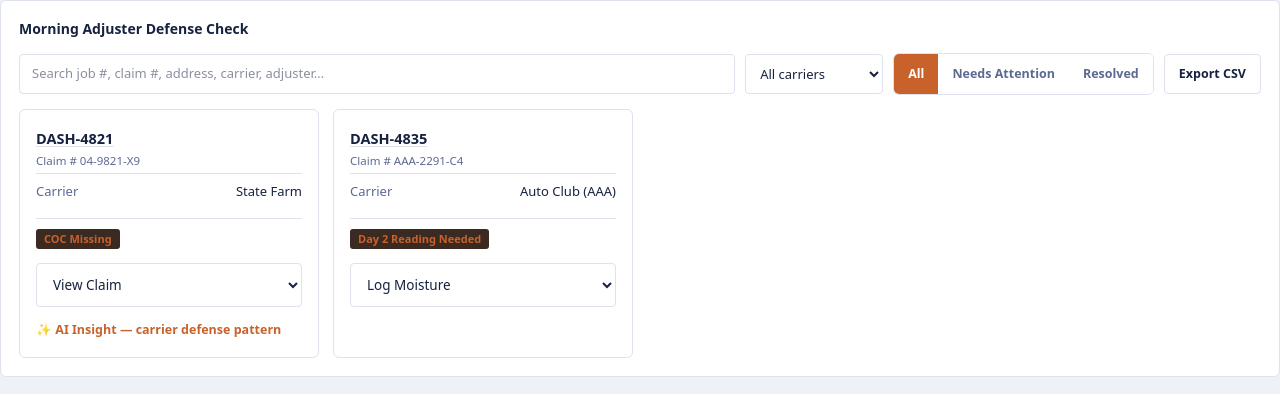
Test case: AdjusterDefenseView › resolving a chip shows an Undo link, and Undo reverts the chip and count
This screenshot has width=1280, height=394.
Select "✓ Mark Resolved" in the dropdown below "COC Missing" at (169, 285), box [36,263,302,307]
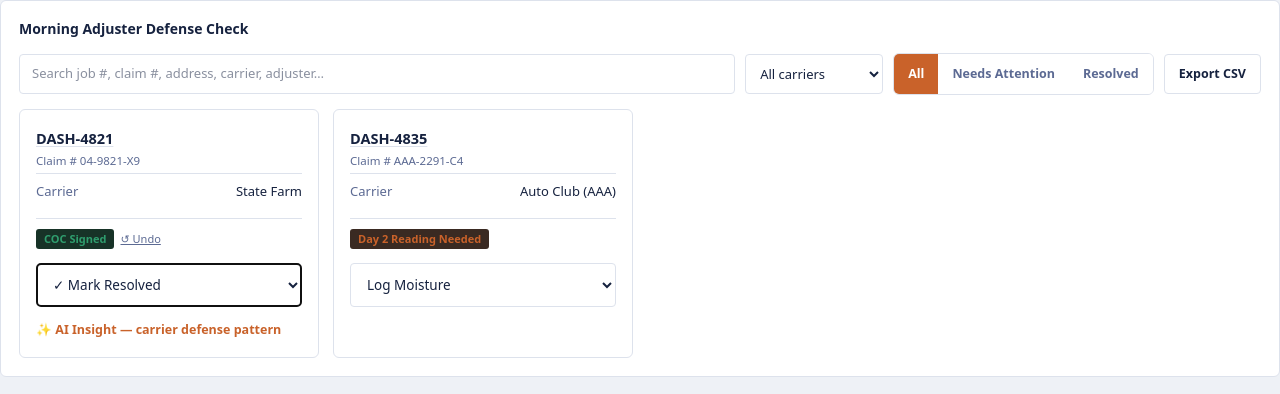
expect the text "COC Signed" is shown: met, box [36,229,114,249]
Click the button "↺ Undo" at (141, 239), box [120,231,161,247]
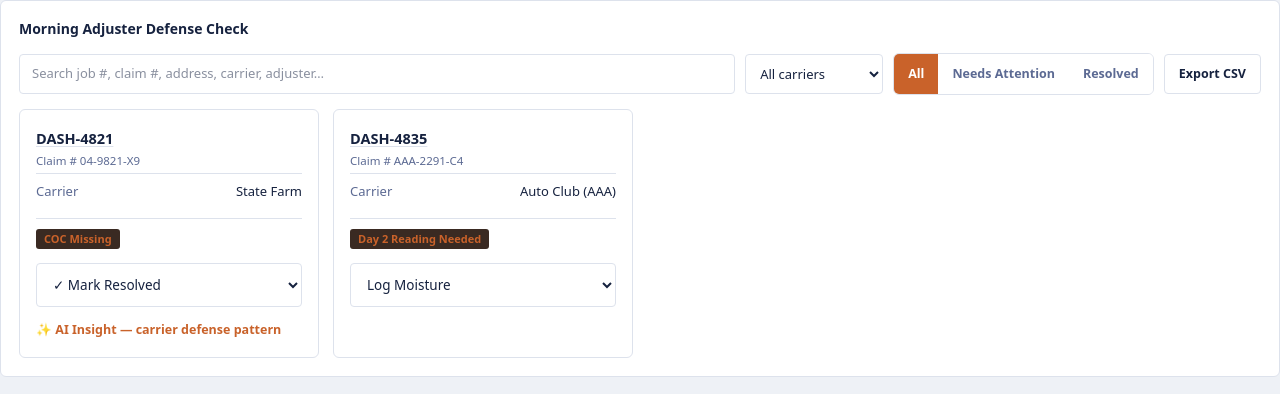
expect the text "COC Missing" is shown: met, box [36,229,120,249]
expect the button "↺ Undo" is gone: met
